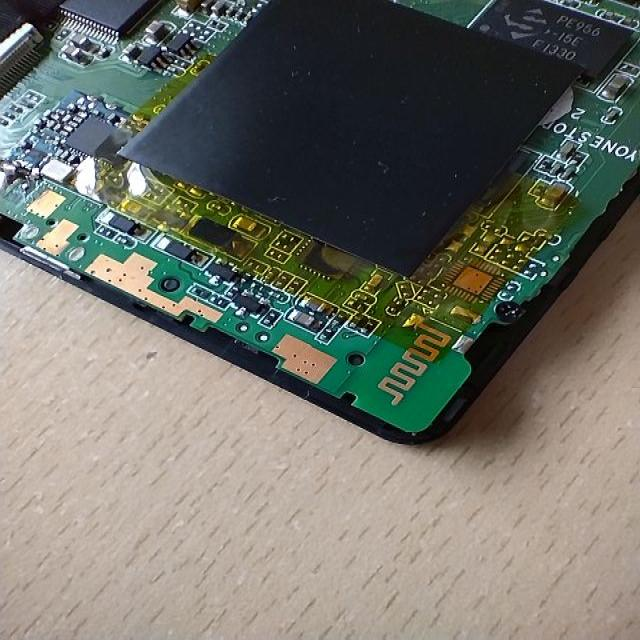capacitor: (285, 310, 316, 334), (605, 70, 626, 102), (54, 47, 84, 67), (301, 287, 325, 311), (235, 211, 257, 234), (556, 140, 580, 161), (142, 20, 170, 37), (123, 42, 142, 60), (69, 33, 90, 49), (365, 271, 381, 289), (266, 267, 276, 283)
